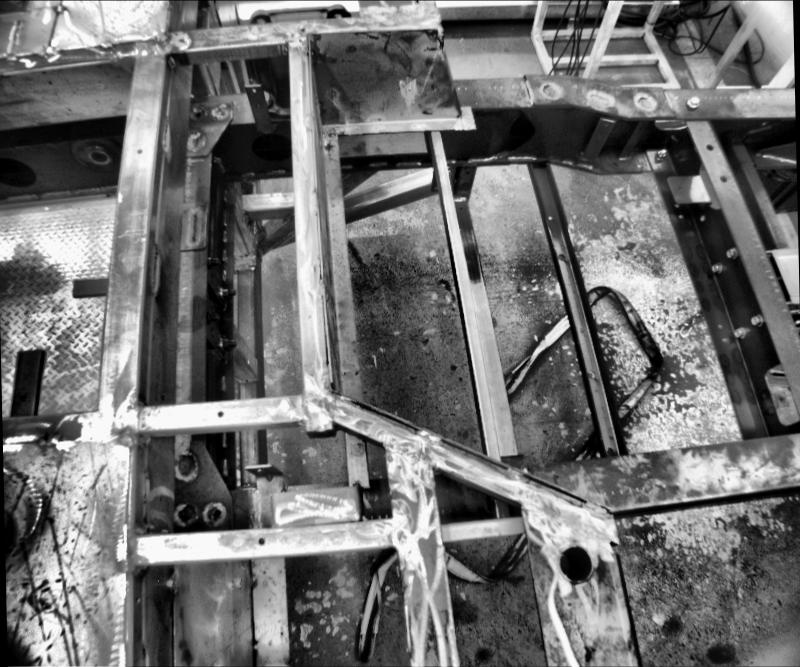bolt: (722, 244, 738, 259), (208, 253, 226, 266), (219, 335, 235, 349), (749, 312, 765, 326), (686, 93, 698, 110), (653, 146, 665, 161), (220, 286, 234, 298), (710, 261, 724, 272), (732, 326, 746, 337)
bracket: (9, 341, 43, 429), (243, 462, 287, 526), (757, 363, 799, 429), (665, 164, 712, 214), (240, 77, 276, 139), (69, 277, 109, 300)
hole: (555, 543, 592, 580), (84, 146, 110, 168), (718, 172, 728, 183), (706, 139, 714, 151), (16, 391, 24, 400), (256, 536, 264, 544), (212, 507, 220, 515), (556, 253, 564, 260), (215, 408, 222, 415), (545, 214, 551, 220), (716, 323, 722, 328), (250, 86, 255, 91), (136, 148, 141, 152), (300, 25, 304, 30), (458, 205, 462, 209), (721, 336, 725, 340)
